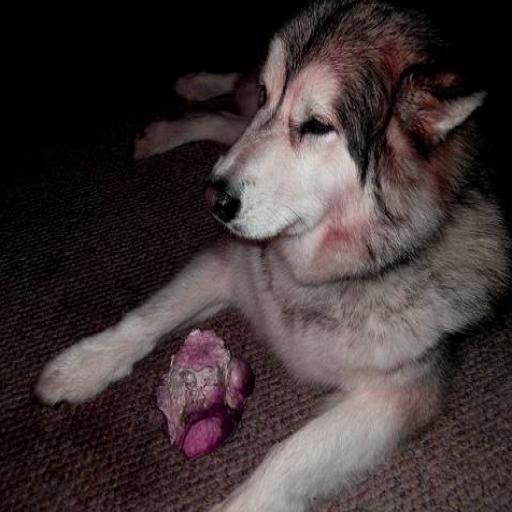dog_face: (226, 0, 485, 241)
